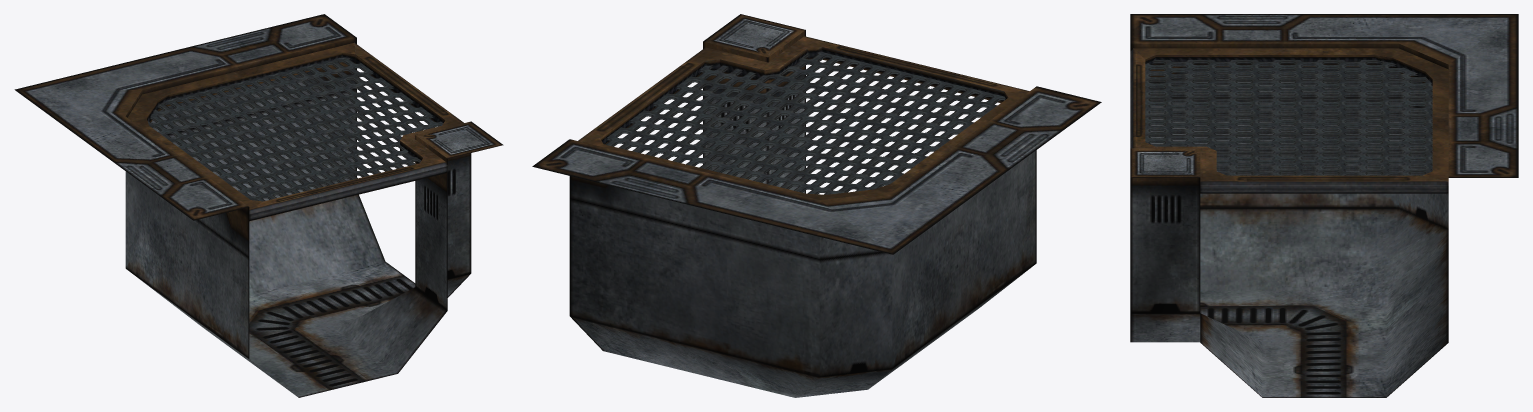
The model's file is tunnel_turn_metal.dae.
3 views of the same model, side by side, from view 1: azimuth 30°, elevation 25°; view 2: azimuth 150°, elevation 25°; view 3: azimuth 270°, elevation 25° (orthographic). The views are drawn at different scales.
Parts seen in each view (by area): view 1: polySurface6, pPlane10, pPlane17; view 2: polySurface6, pPlane10, pPlane17; view 3: polySurface6, pPlane10, pPlane17.
Part boxes in pixels (x1,y1,x2,y2): polySurface6: (14, 14, 503, 397); pPlane10: (148, 57, 443, 201); pPlane17: (150, 60, 439, 200); polySurface6: (532, 14, 1101, 397); pPlane10: (605, 52, 1005, 194); pPlane17: (606, 55, 1004, 194); polySurface6: (1130, 14, 1518, 397); pPlane10: (1145, 60, 1432, 175); pPlane17: (1149, 62, 1432, 175).
Size of the model in its own units: 2 by 1.25 by 2.
